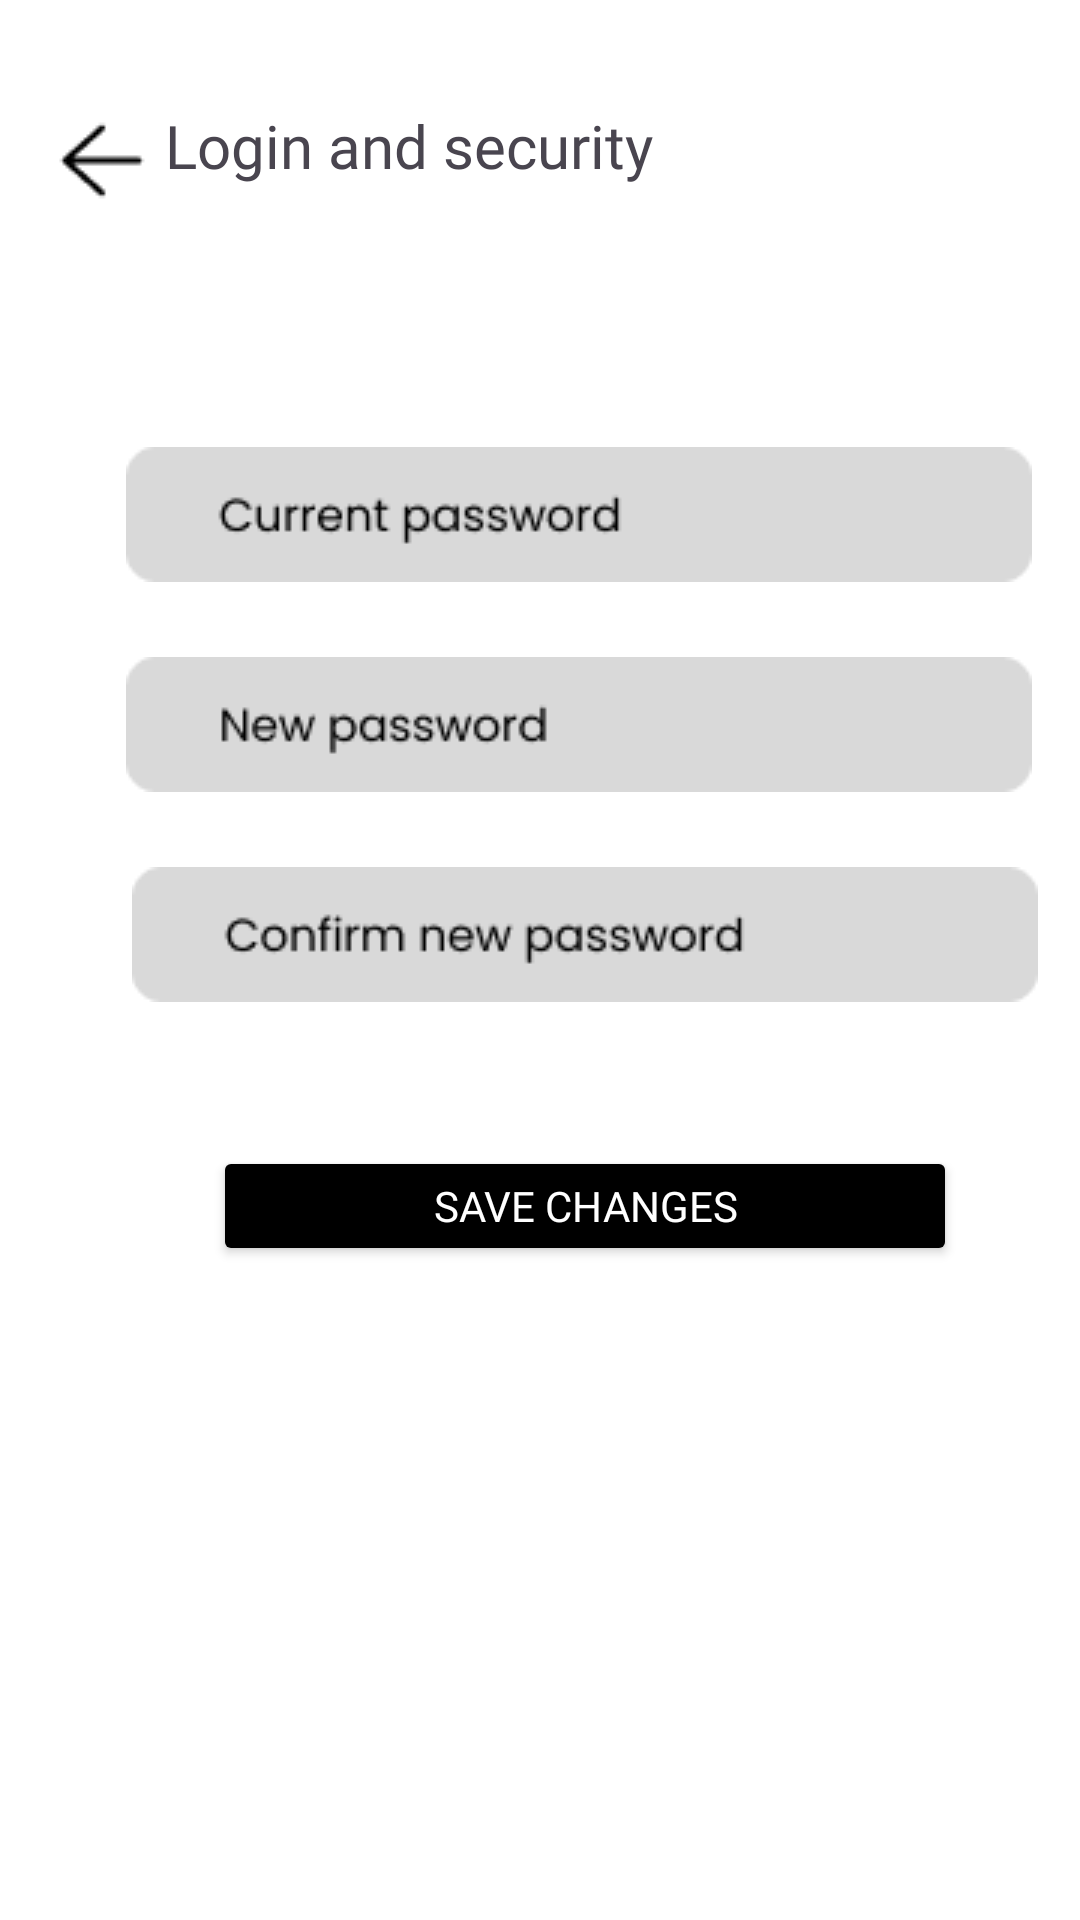

Where to tap for icons on this 1080 × 1920 app screen, as [x,y]:
arrow: [102,160]
